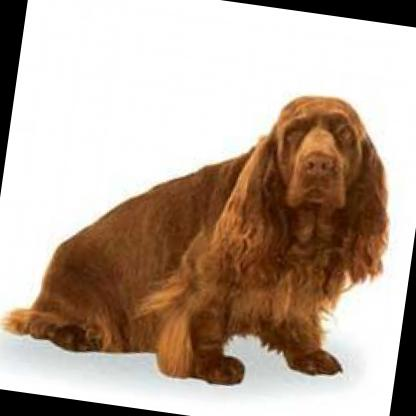Sussex_spaniel: (0, 48, 411, 410)
